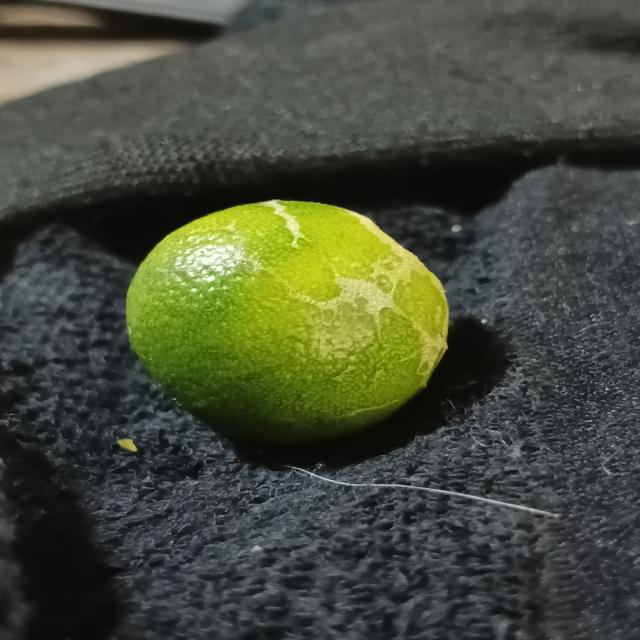thrips: (110, 191, 468, 444)
